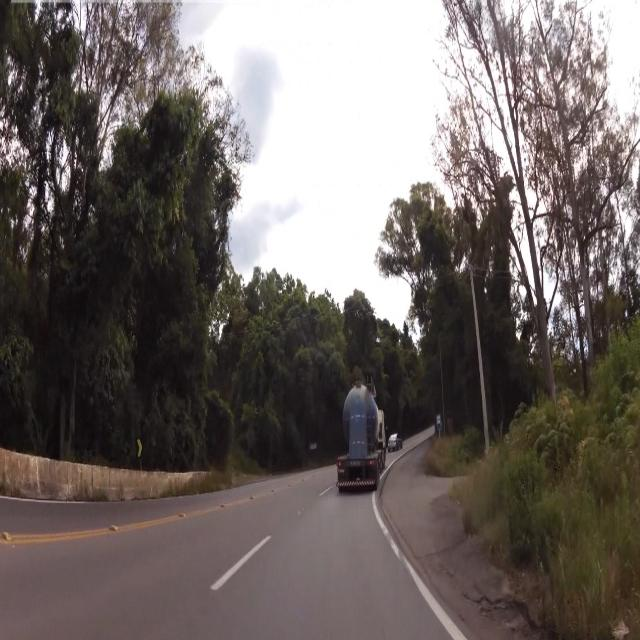Del: (135, 435, 144, 460)
